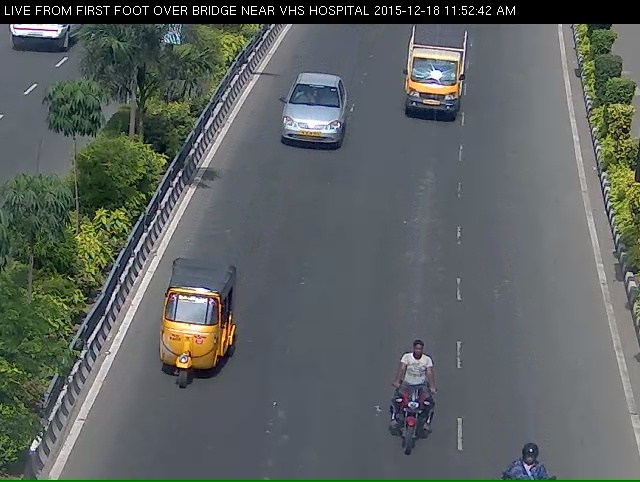Auto: (149, 277, 232, 417), (400, 33, 474, 132)
Car: (278, 80, 349, 173)
Person: (390, 358, 438, 466)
